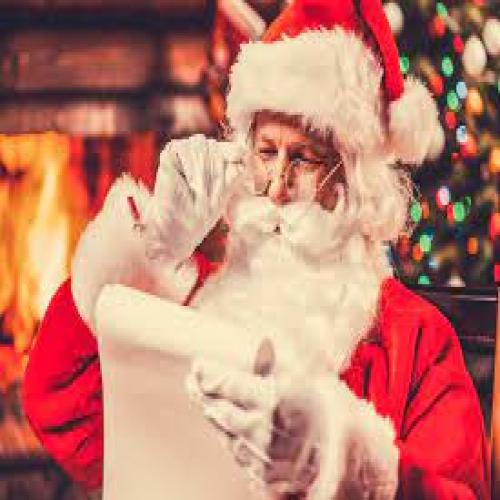Santa: (23, 0, 486, 499)
